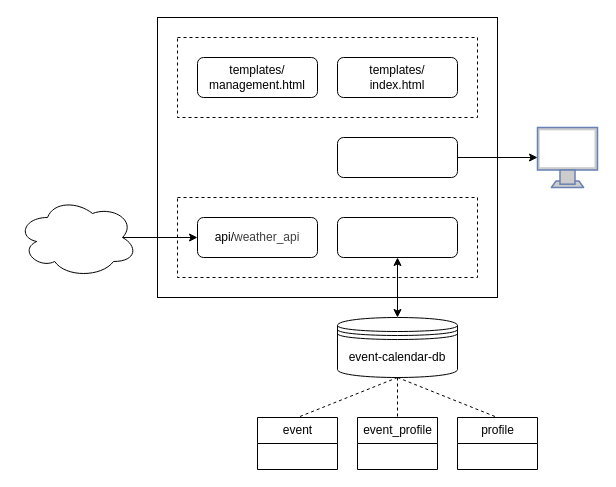
This 616x487 diagram has some shape labels left out. Each missing label, with the centre of its shape:
"api/event_api" goes at pixel 397 237.
"Flask App" goes at pixel 397 157.
"Internet" goes at pixel 77 237.
